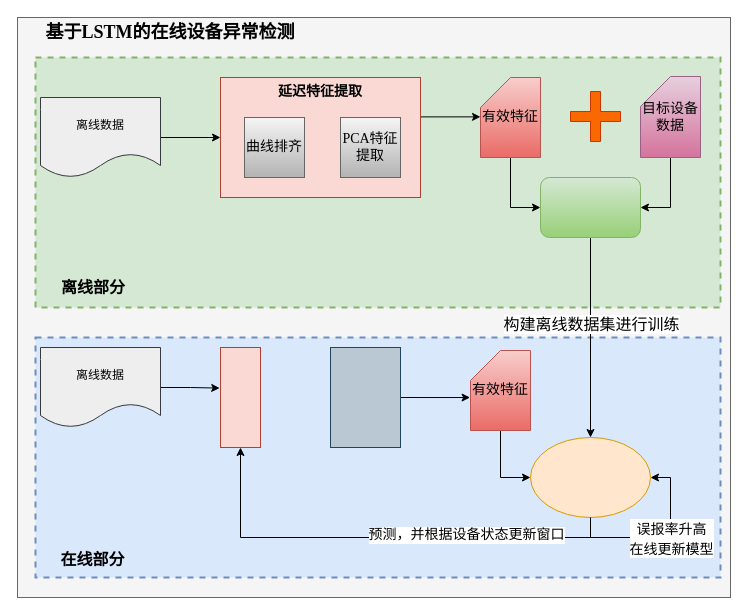
The diagram is 748 pixels wide and 615 high, and some of its shapes have lost their labels. Each missing label, with the centre of its shape:
延迟相关特征提取: point 365,397
异常检测模型: point 590,477
模型训练: point 590,207
滑动窗口: point 240,397
